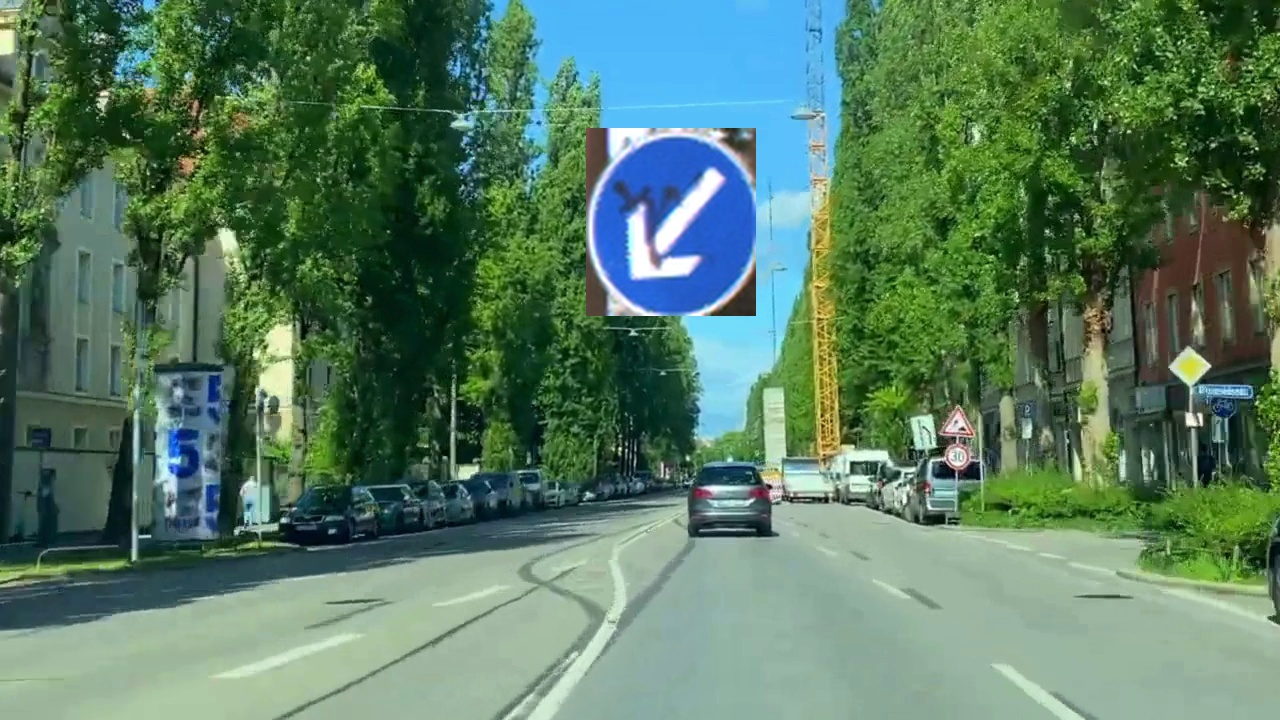Keep left: (586, 128, 756, 316)
